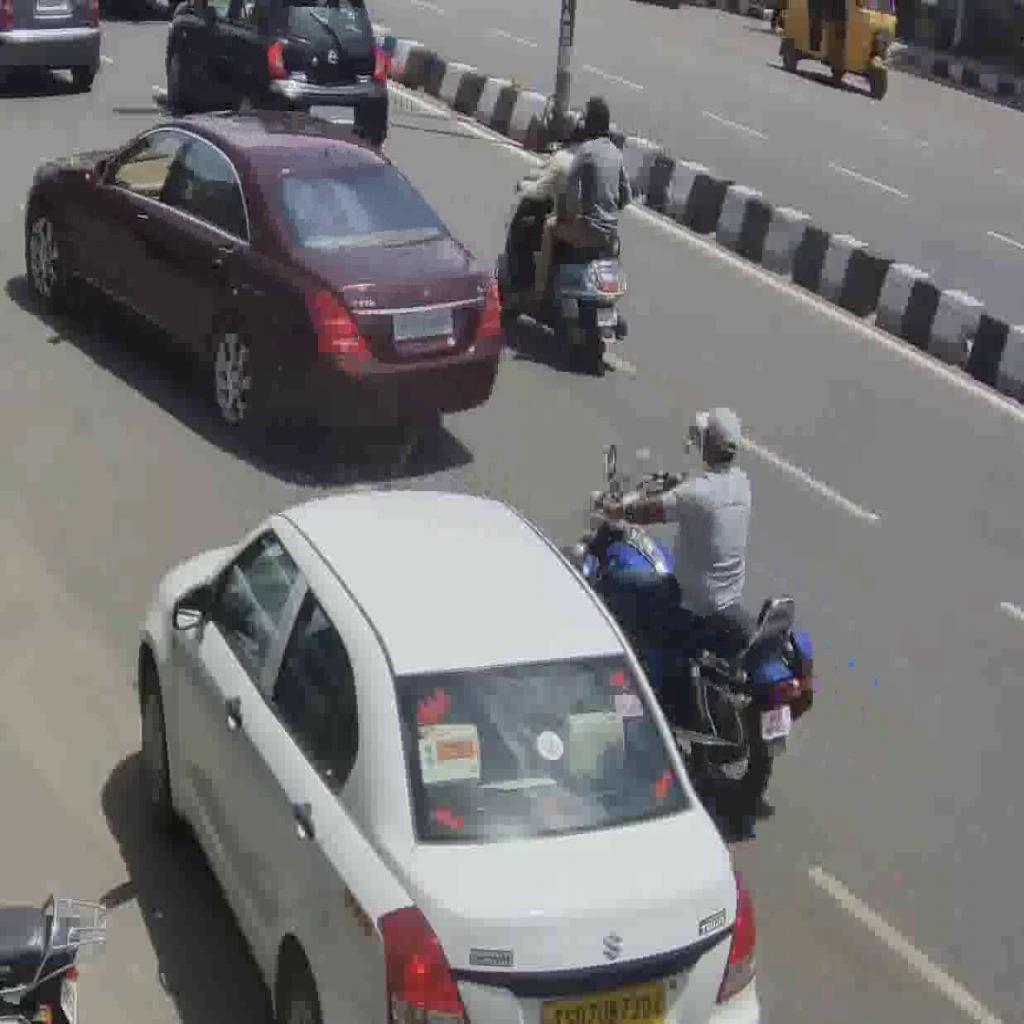helmet: (554, 475, 817, 819), (493, 171, 630, 374)
